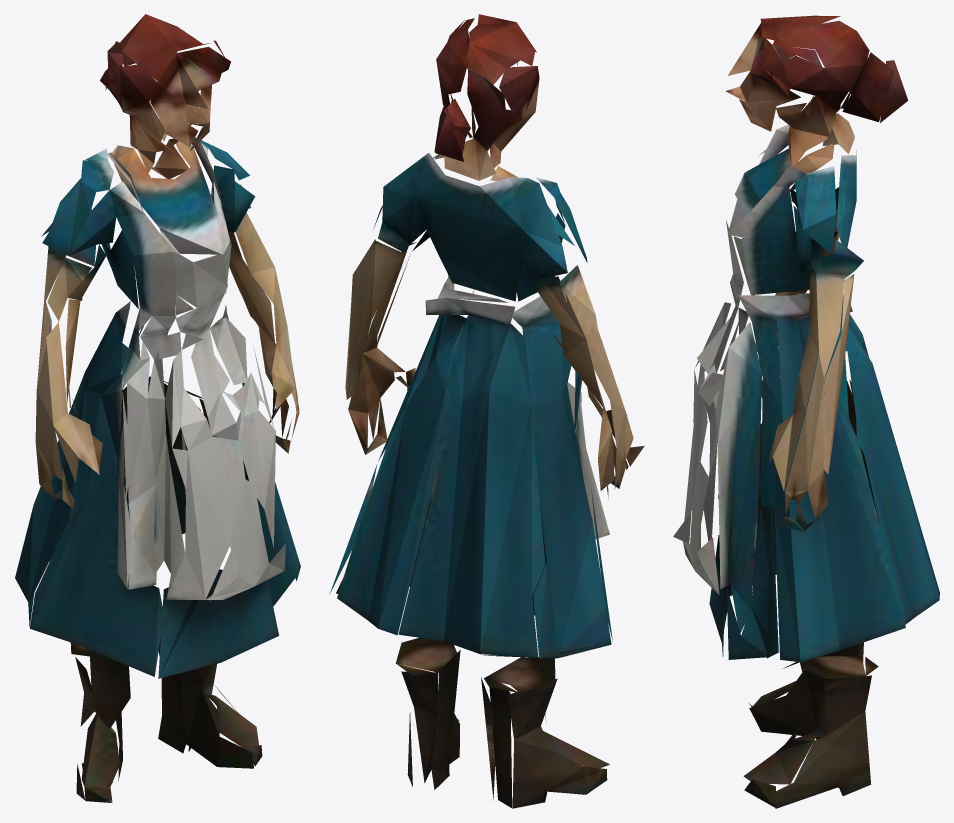
File: kit_persona4.glb
The picture shows the model from 3 angles, left to right: view 1: azimuth 30°, elevation 25°; view 2: azimuth 150°, elevation 25°; view 3: azimuth 270°, elevation 25°; orthographic projection.
Visible parts, largest first — view 1: _leggero; view 2: _leggero; view 3: _leggero.
Part boxes in pixels (left/top/right/bottom): _leggero: left=15, top=14, right=300, bottom=802; _leggero: left=329, top=14, right=644, bottom=808; _leggero: left=673, top=15, right=939, bottom=808.
Bounding box in the file's own units: 1.02 × 2.72 × 0.8703.
1 material, 1 textured.
